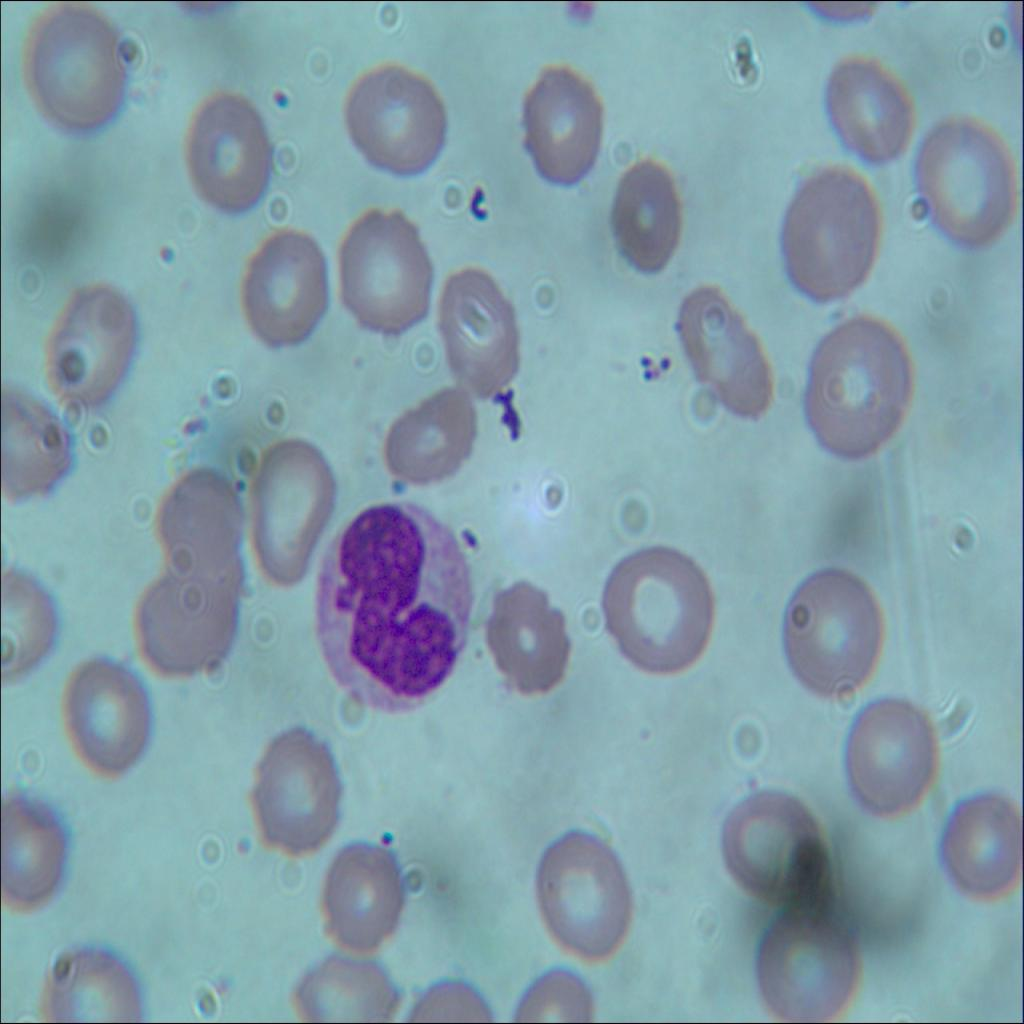Eritrosit: (766, 156, 878, 305), (599, 542, 719, 680), (238, 428, 338, 591), (676, 277, 778, 428), (918, 109, 1024, 252), (801, 321, 911, 458), (18, 4, 132, 136), (531, 821, 636, 962), (746, 898, 863, 1023), (338, 64, 456, 186), (786, 561, 886, 699), (40, 282, 142, 412), (254, 714, 346, 858), (58, 652, 158, 781), (334, 211, 434, 337), (718, 784, 828, 898), (178, 81, 276, 208), (479, 575, 578, 698), (375, 374, 479, 491), (435, 261, 522, 399), (842, 695, 938, 818), (319, 837, 413, 955), (138, 568, 238, 678), (523, 55, 601, 191), (162, 468, 250, 585), (242, 233, 328, 352), (603, 148, 679, 275), (936, 787, 1023, 897), (0, 387, 75, 506), (826, 64, 916, 162), (295, 944, 401, 1023), (42, 938, 138, 1023), (0, 565, 61, 688), (0, 798, 64, 909)
Neutrofil: (308, 498, 468, 707)
Platelet: (566, 0, 600, 37), (146, 239, 182, 271), (740, 766, 766, 805), (222, 461, 248, 499), (384, 461, 409, 499), (264, 84, 291, 115), (233, 829, 261, 855), (633, 718, 653, 748), (374, 826, 396, 849), (642, 365, 658, 387), (635, 349, 653, 368), (658, 352, 670, 372)
